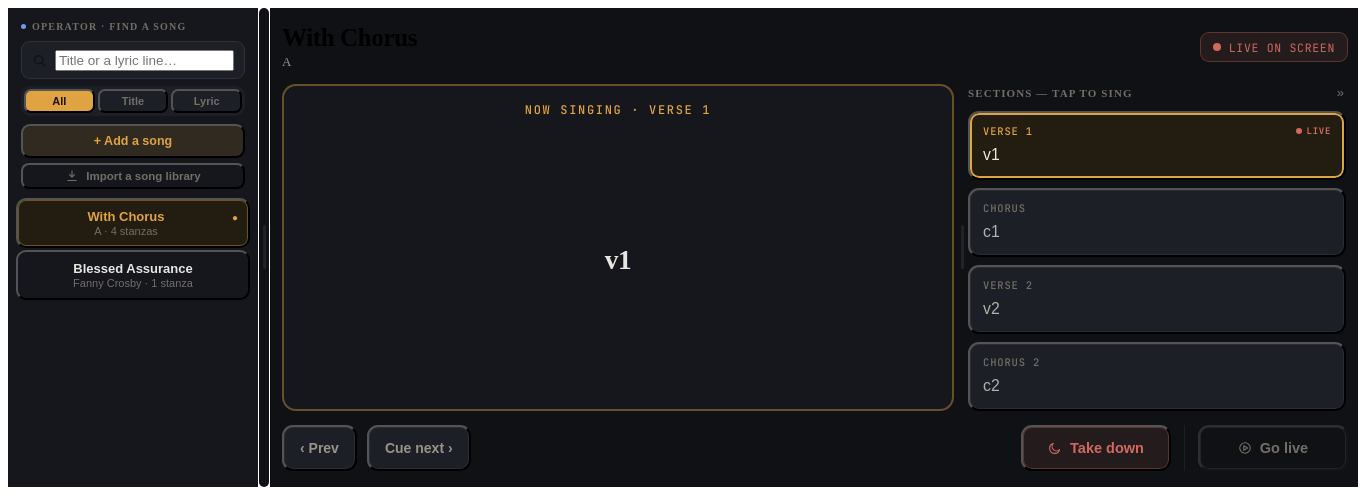
SongsMode armed switching › the Switch button commits: armed song goes live at section 0 and becomes the selection
Check: the text "NOW SINGING · Verse 1" is shown, box [525,102,711,118]
Click the text "Blessed Assurance": (133, 268) [73,261,193,276]
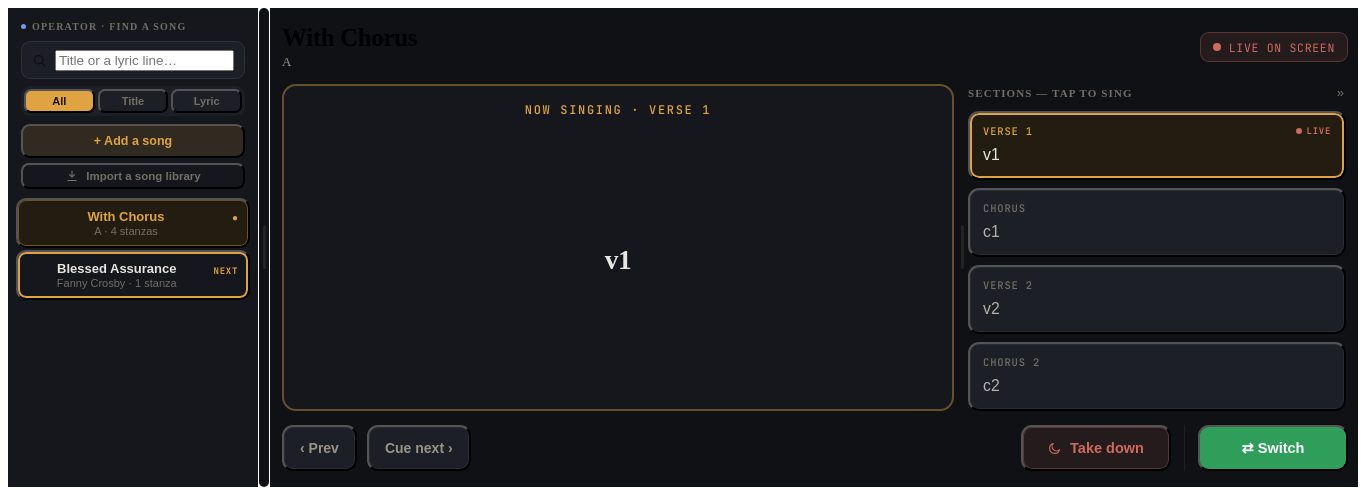
Click the button "⇄ Switch": (1273, 448) [1198,425,1348,471]
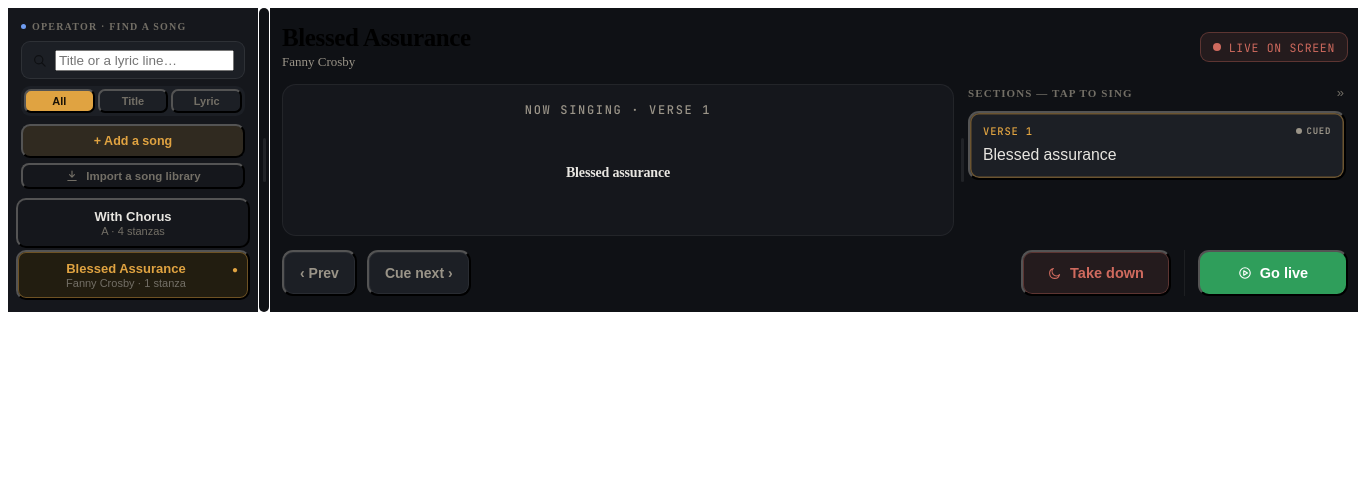
Check: the button "⇄ Switch" is gone
